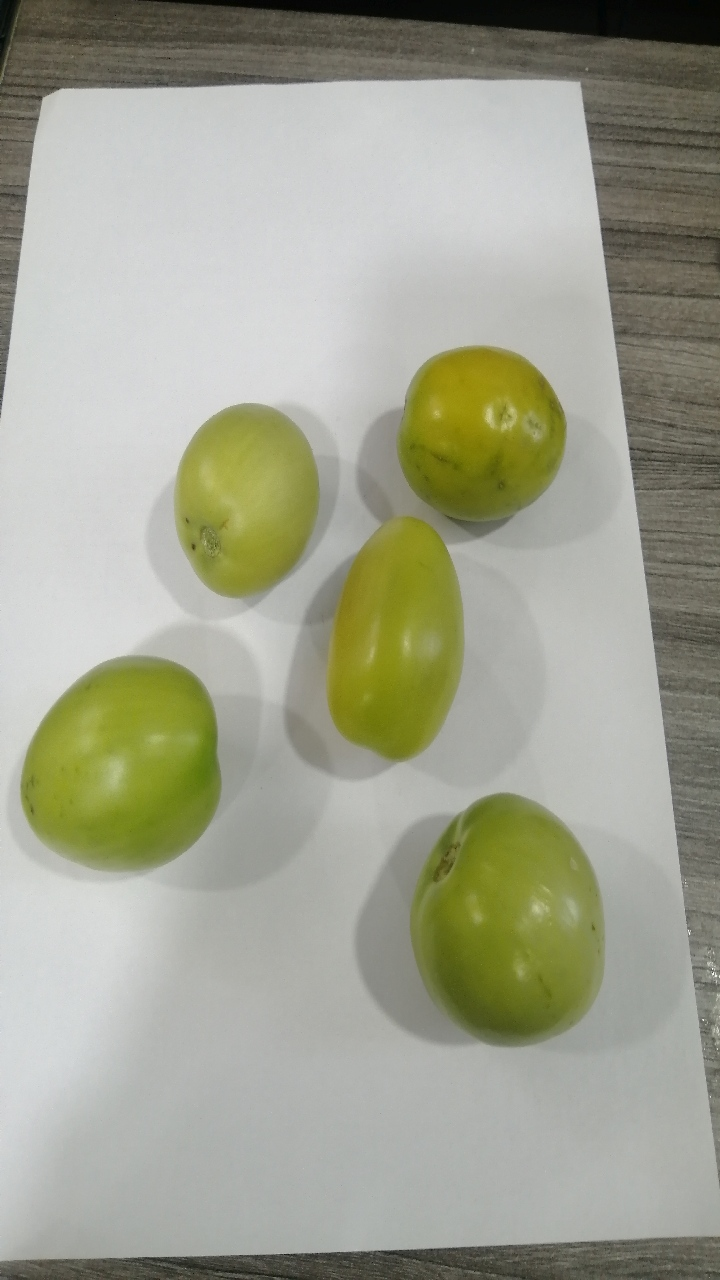tomateVerde: (377, 774, 641, 1071), (11, 625, 234, 895), (301, 497, 497, 785), (386, 303, 588, 534), (168, 377, 337, 597)
